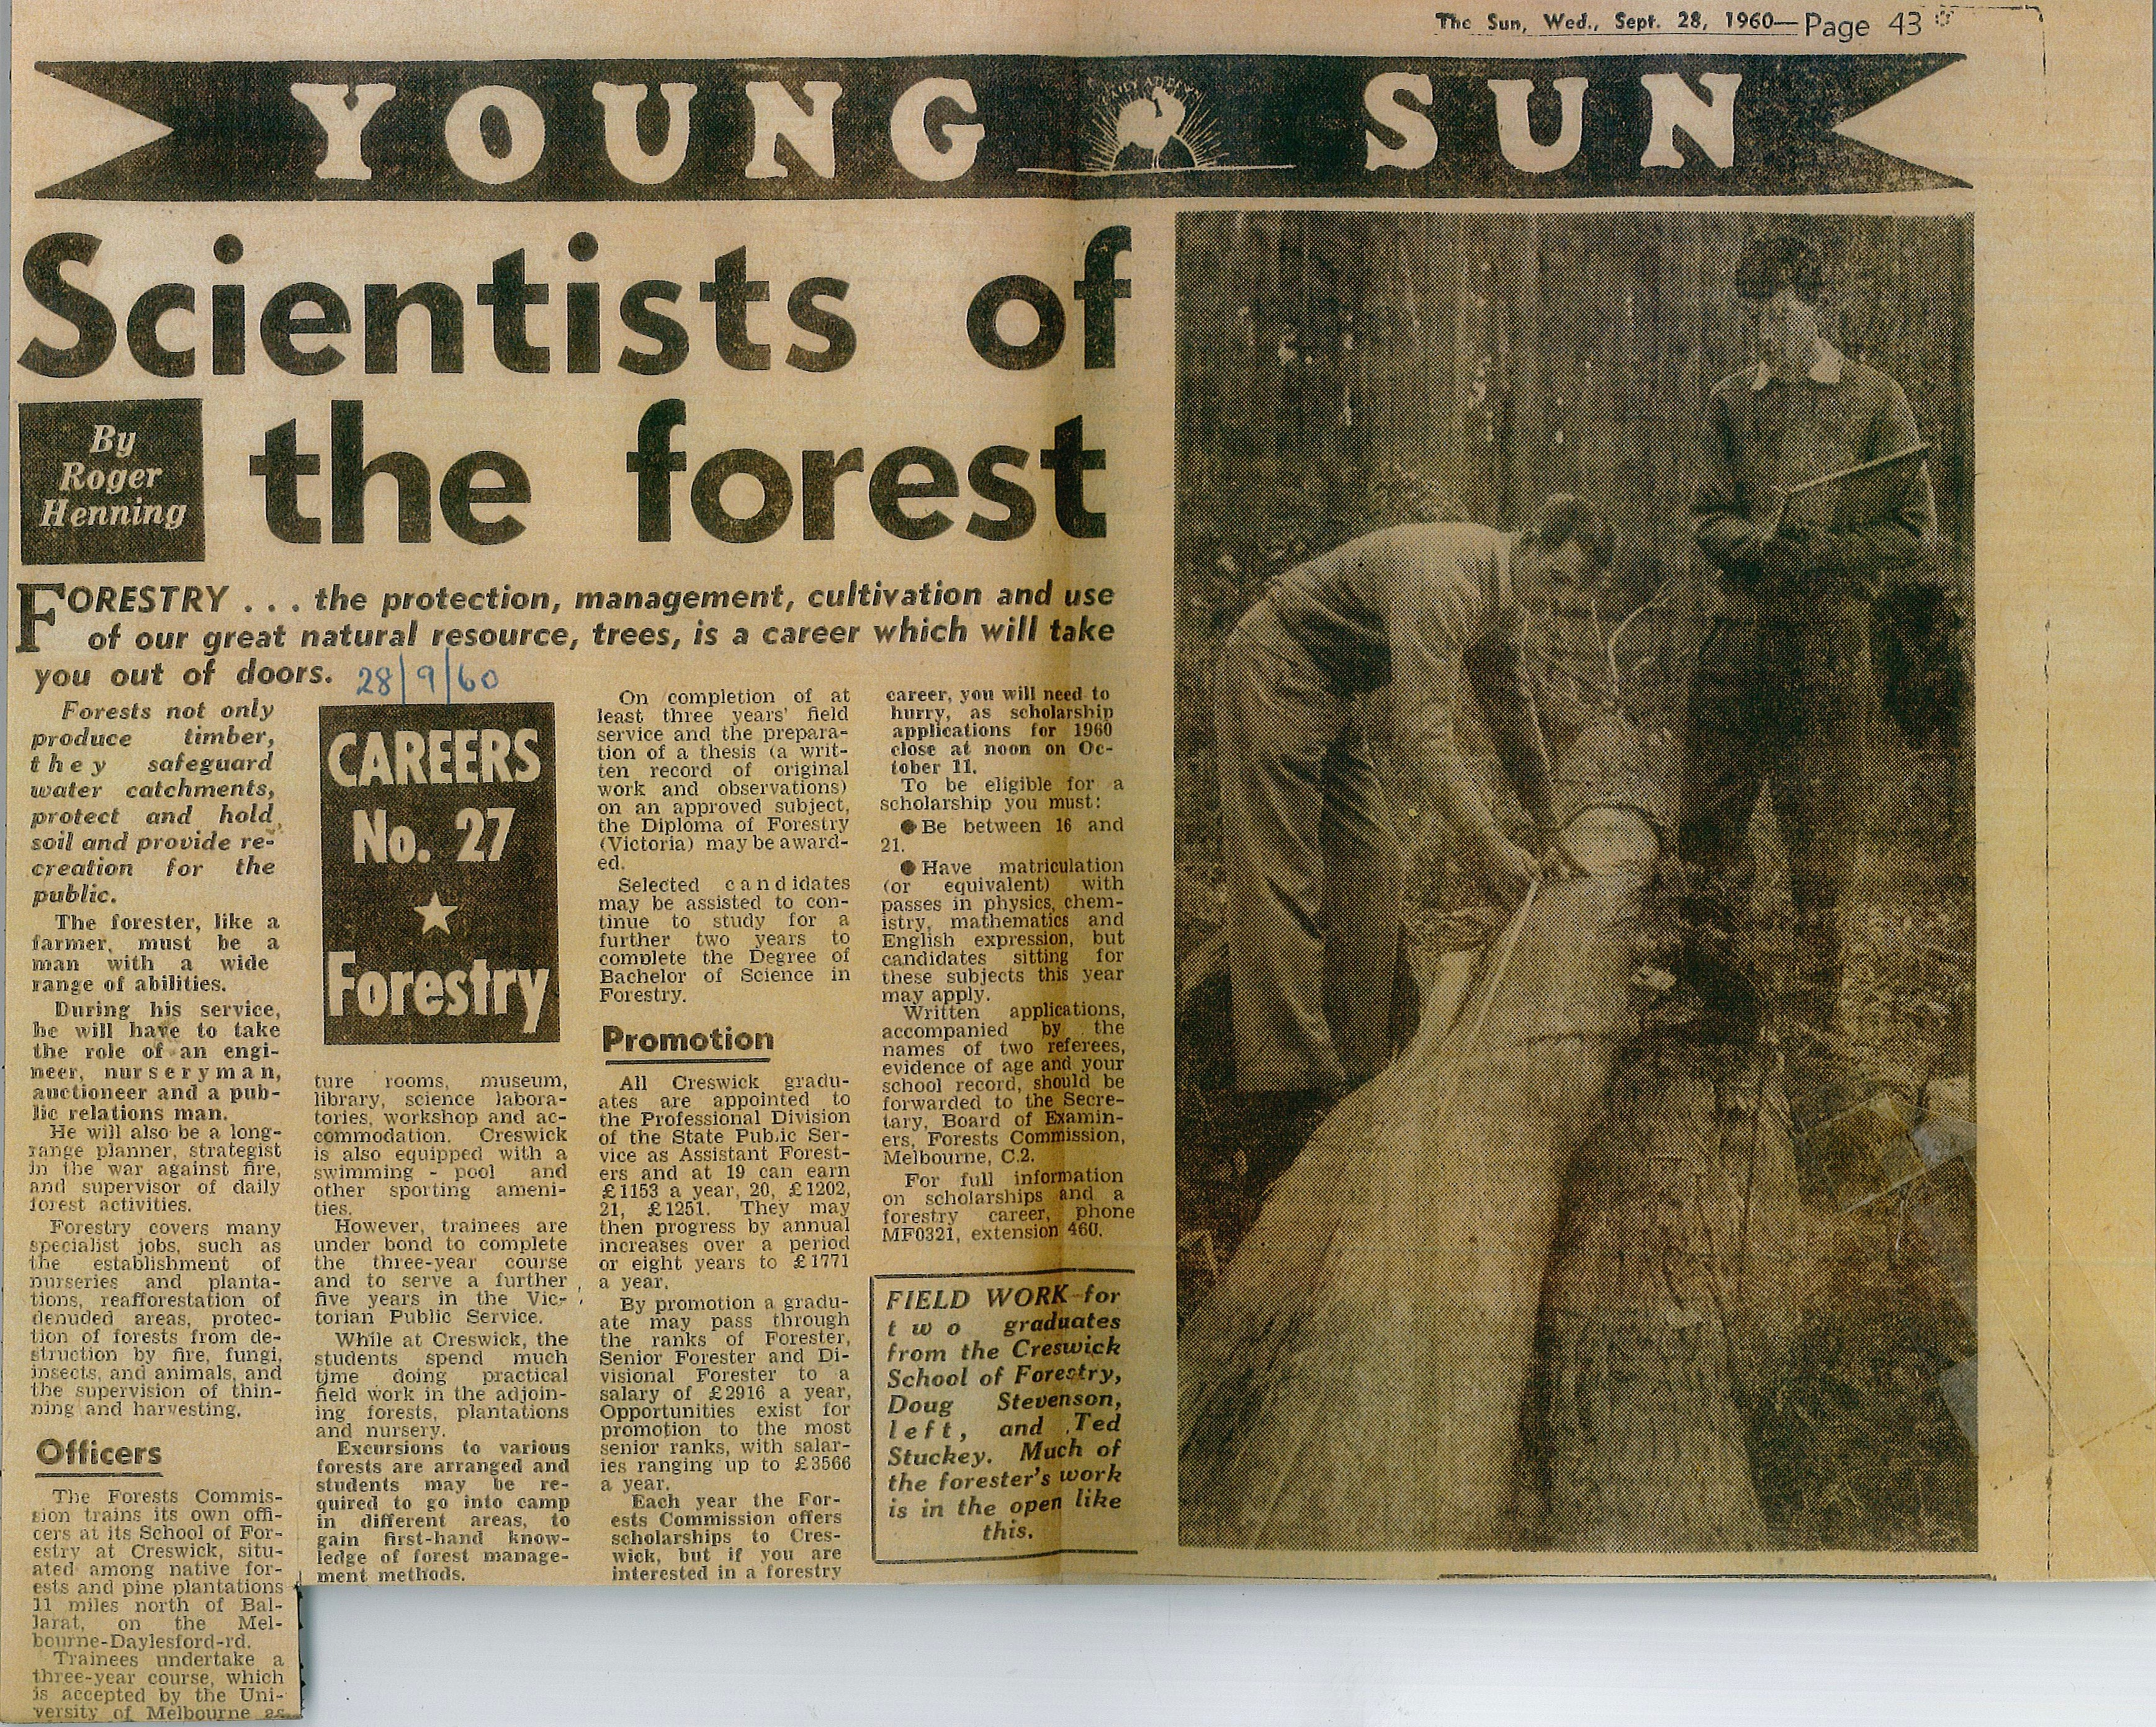news_paper: (0, 5, 2154, 1727)
